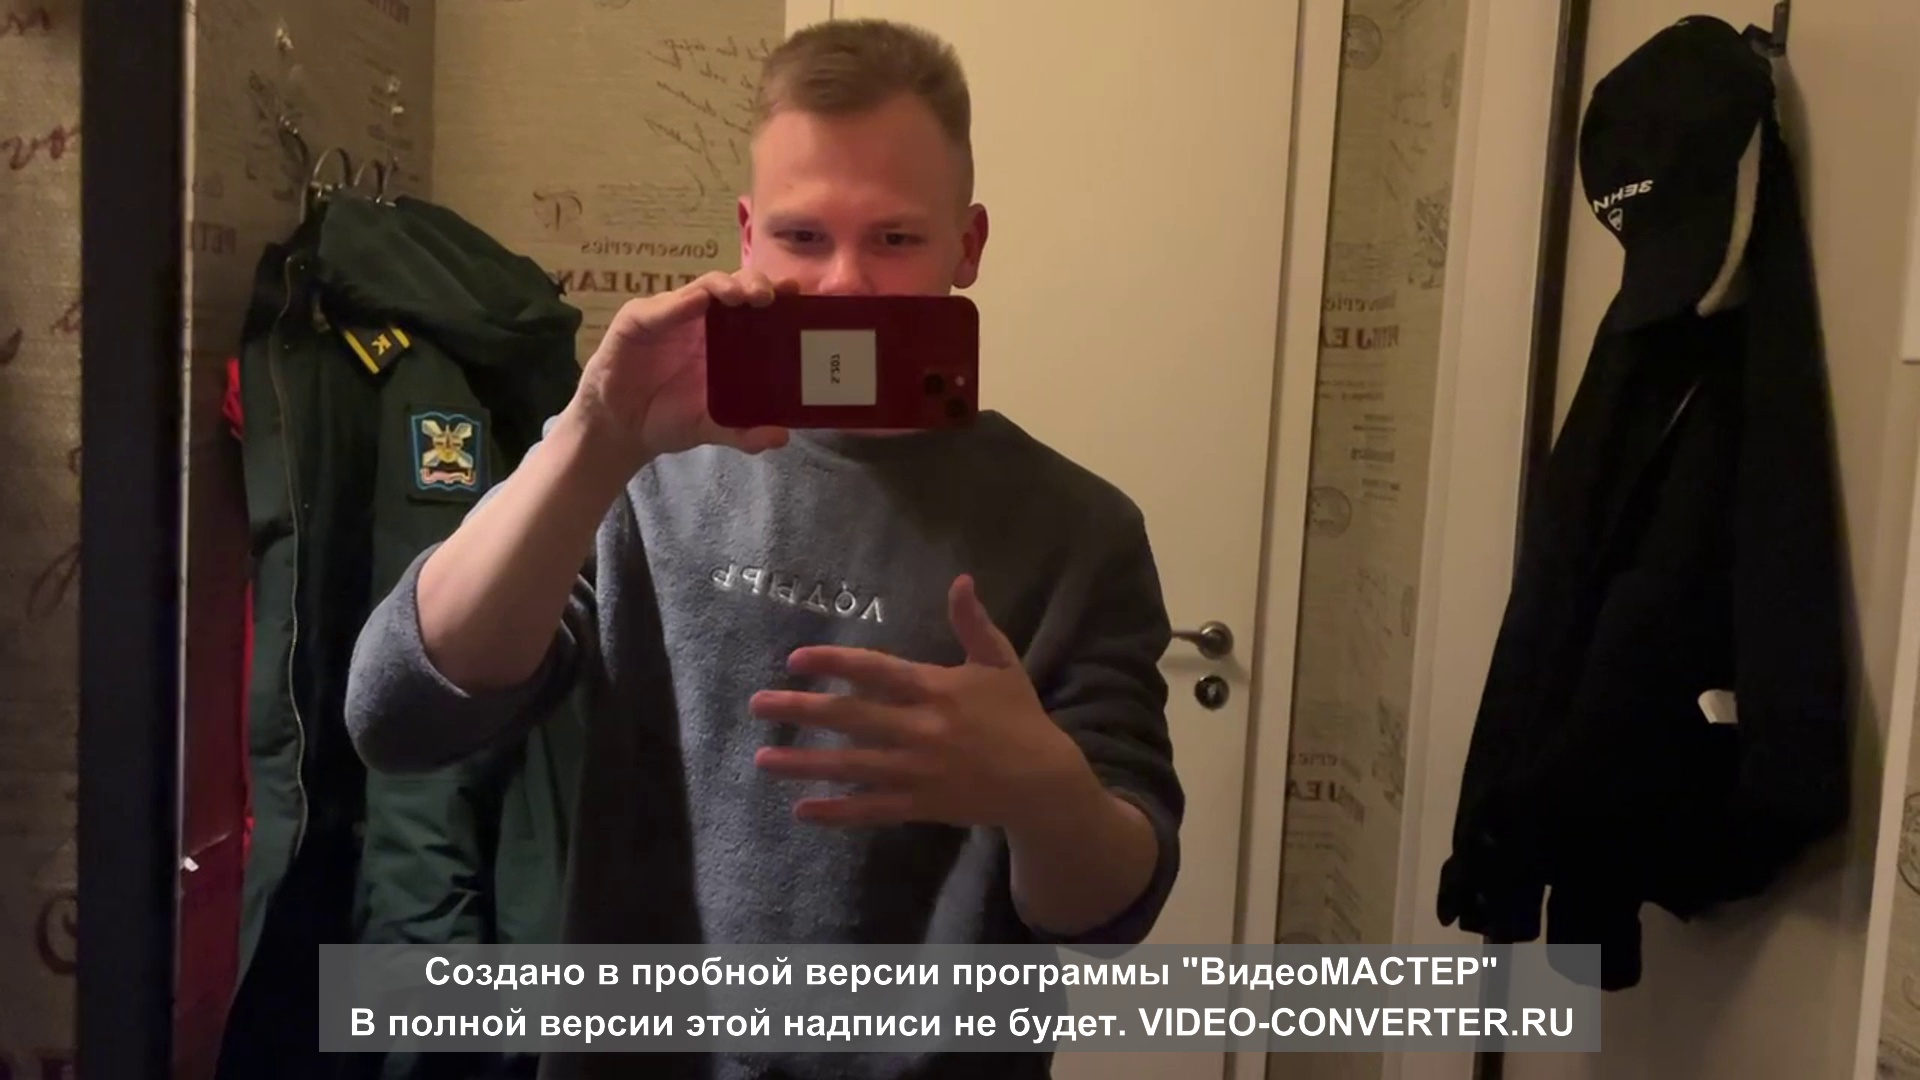Кисть: (752, 575, 1042, 828)
